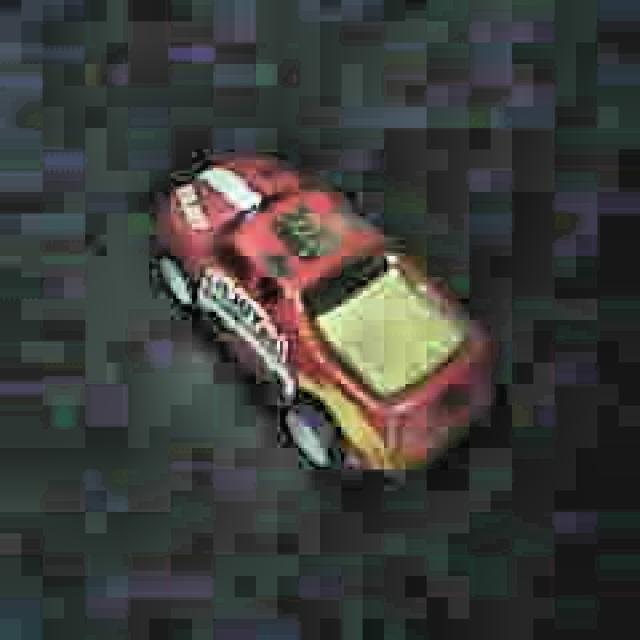car: (150, 136, 502, 488)
